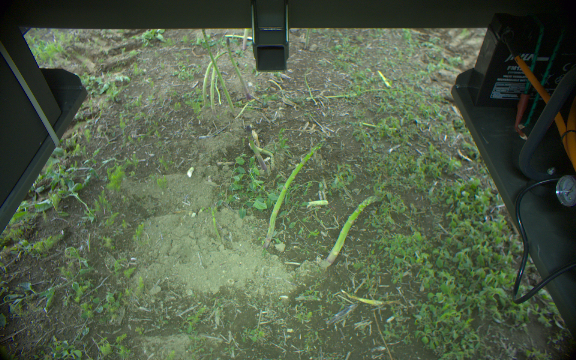aspa: (260, 142, 322, 241), (324, 195, 382, 265), (200, 27, 234, 113), (225, 37, 255, 103), (201, 48, 235, 105), (241, 125, 266, 176), (209, 67, 217, 105), (242, 29, 250, 50), (216, 79, 221, 101)
